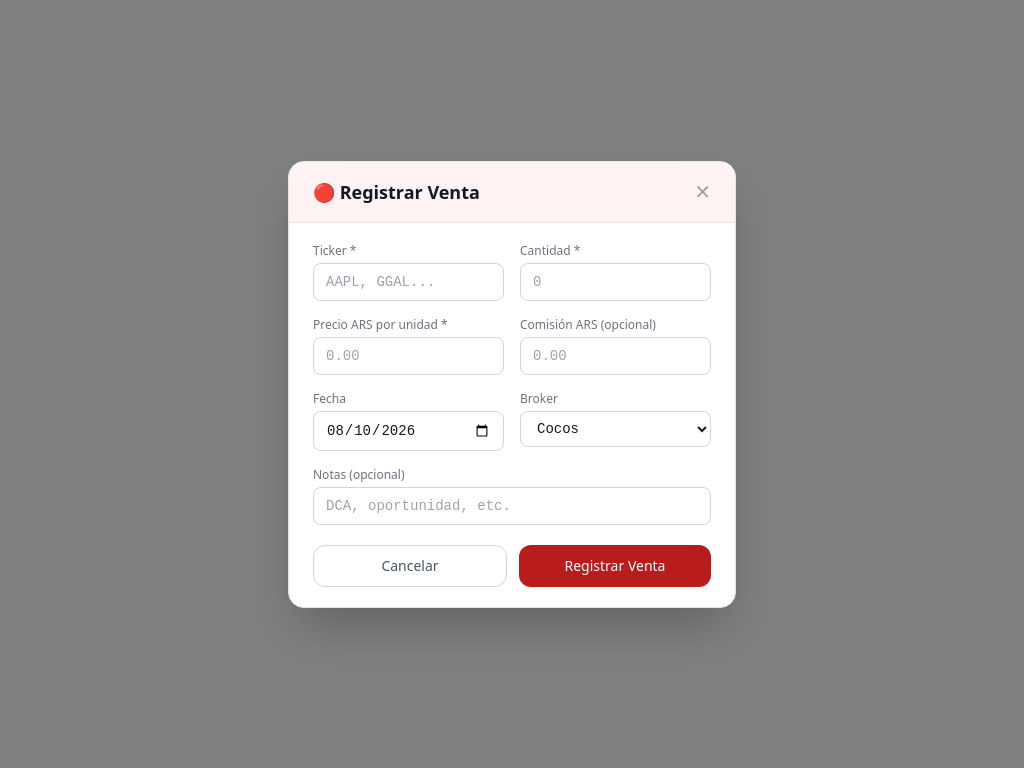
Test: ModalOperacion — cálculo del total › en una venta, el total muestra cantidad*precio - comisión (neto)
Step 1. Type "TSLA" into the field with placeholder "AAPL, GGAL..." → [408, 282], box [313, 262, 504, 300]
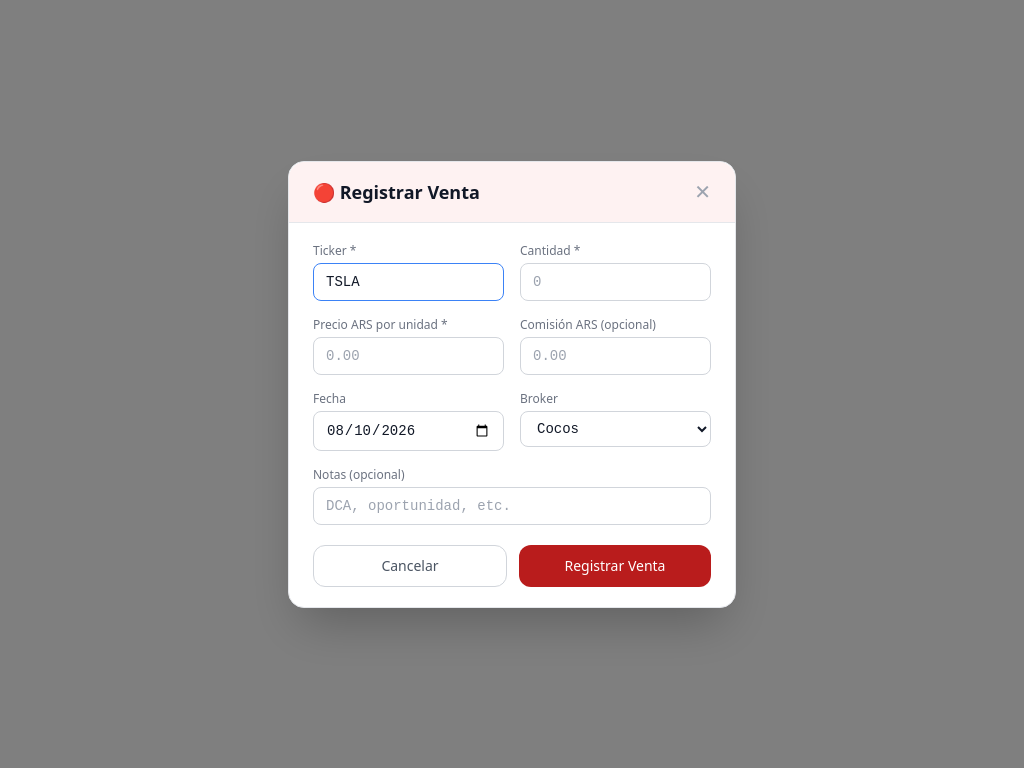
Step 2. Type "10" into the number field with placeholder "0" → [616, 282], box [520, 262, 711, 300]
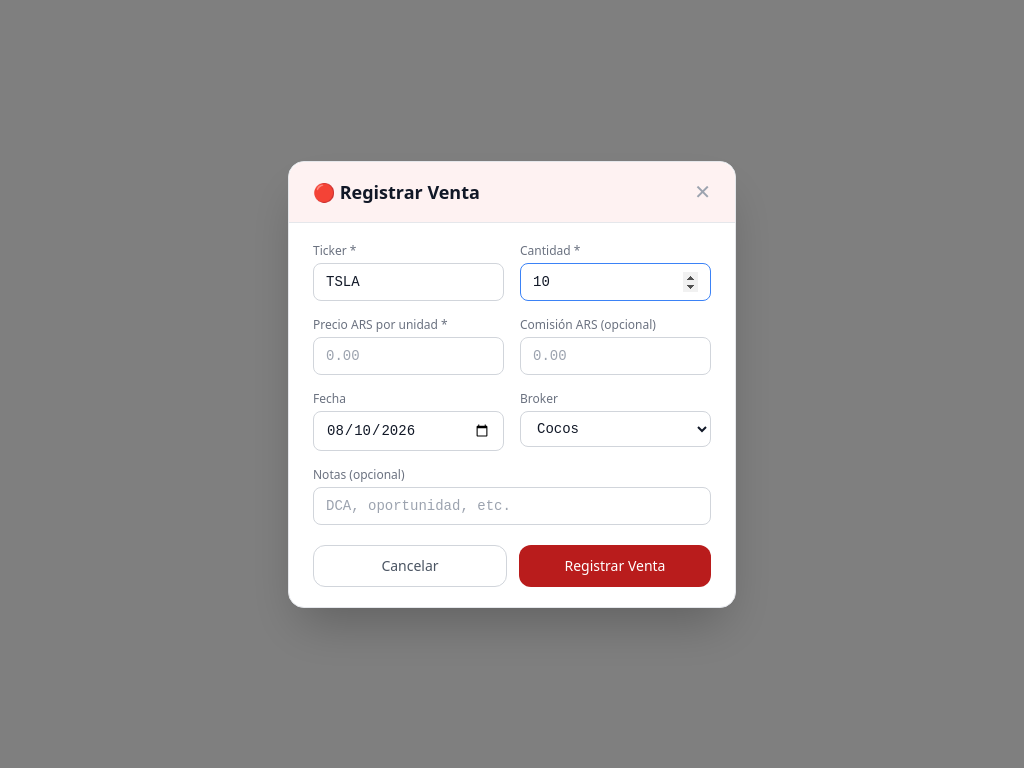
Step 3. Type "1000" into the number field with placeholder "0.00" below "Precio ARS por unidad *" → [408, 356], box [313, 336, 504, 374]
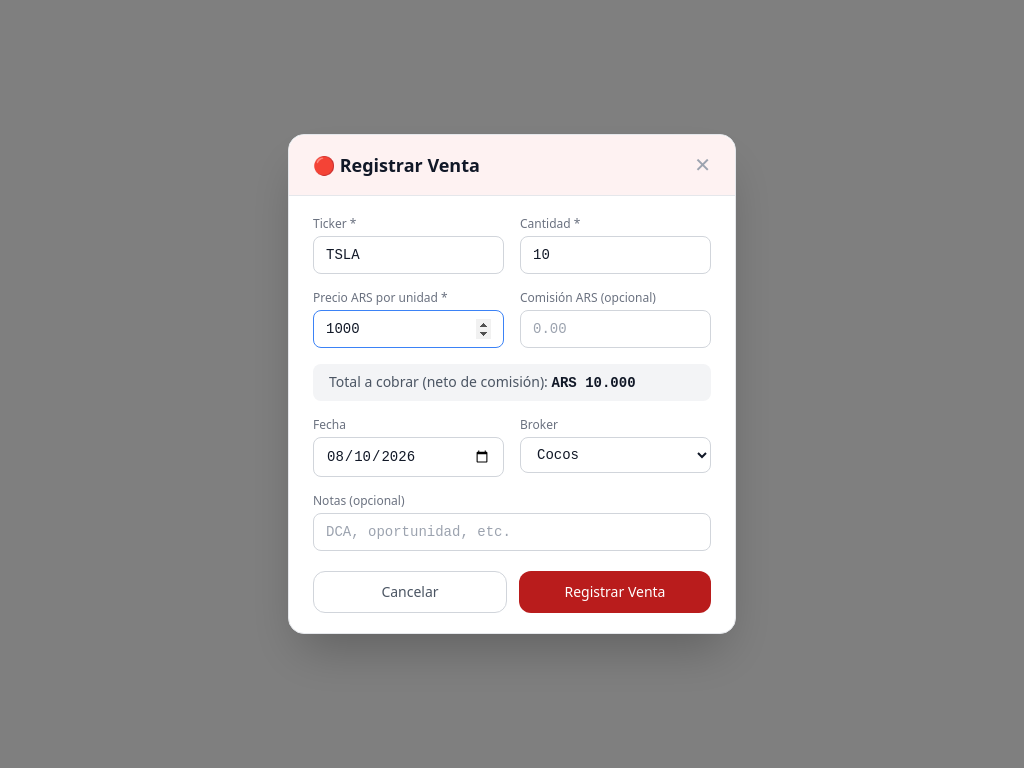
Step 4. Type "500" into the number field with placeholder "0.00" → [616, 329], box [520, 310, 711, 348]
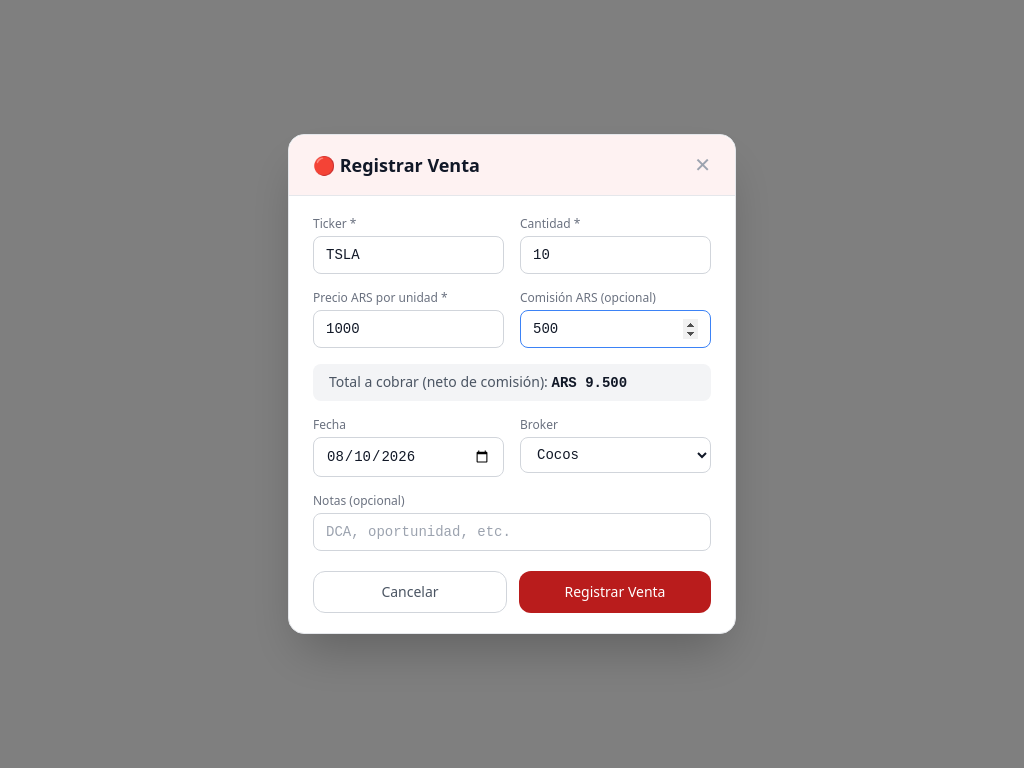
Now the text "Total a cobrar (neto de comisión): ARS 9.500" is shown, box [313, 364, 711, 401]
Now the text "ARS 9.500" is shown, box [552, 375, 627, 391]
